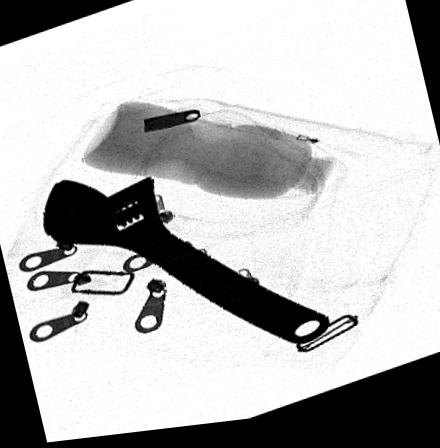Wrench: (39, 177, 329, 353)
